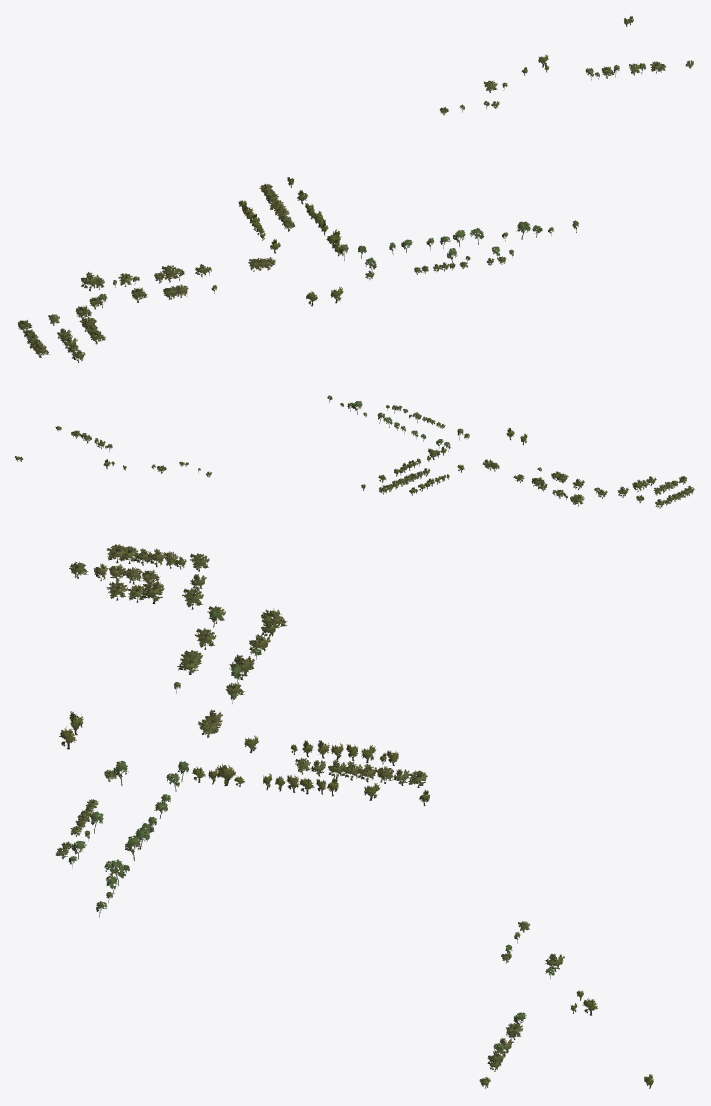
The picture shows the model from 3 angles, top to bottom: view 1: azimuth 30°, elevation 25°; view 2: azimuth 150°, elevation 25°; view 3: azimuth 270°, elevation 25°; orthographic projection. The views are drawn at different scales.
Parts seen in each view (by area): view 1: jacaranda_tree street foliage, tree_small_02 street foliage, island_tree_01 street foliage; view 2: jacaranda_tree street foliage, island_tree_01 street foliage, tree_small_02 street foliage; view 3: jacaranda_tree street foliage, island_tree_01 street foliage, tree_small_02 street foliage.
Boxes of the visible parts, x1=… form: jacaranda_tree street foliage: x1=18, y1=60, x2=693, y2=361; tree_small_02 street foliage: x1=97, y1=63, x2=645, y2=304; island_tree_01 street foliage: x1=238, y1=16, x2=633, y2=304; jacaranda_tree street foliage: x1=55, y1=405, x2=694, y2=507; island_tree_01 street foliage: x1=15, y1=427, x2=527, y2=493; tree_small_02 street foliage: x1=81, y1=395, x2=600, y2=498; jacaranda_tree street foliage: x1=55, y1=544, x2=564, y2=1087; island_tree_01 street foliage: x1=59, y1=711, x2=653, y2=1087; tree_small_02 street foliage: x1=68, y1=608, x2=554, y2=1054.
Bounding box in the file's own units: 553 × 12.32 × 263.
6 materials, 6 textured.
